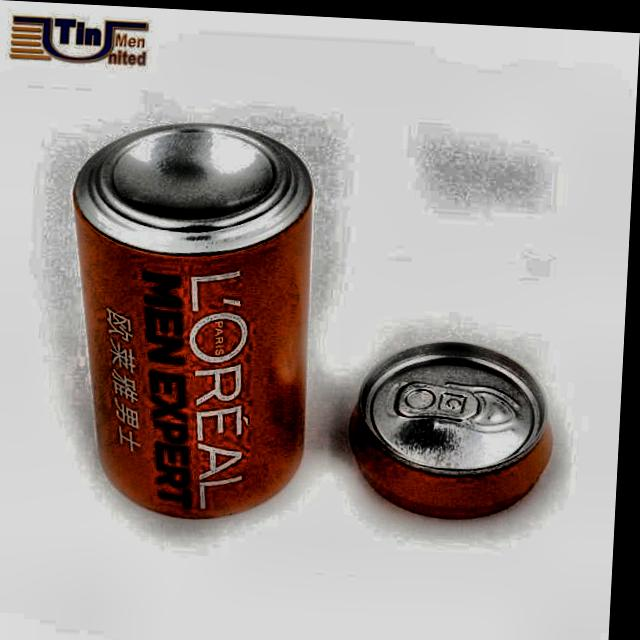can: (54, 106, 345, 542), (343, 321, 577, 524)
